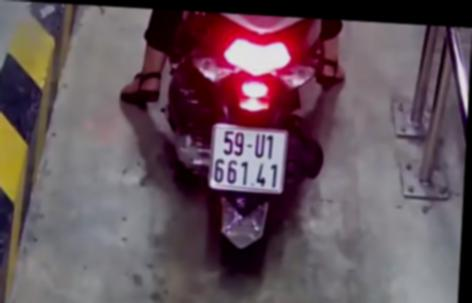License_Plate: (203, 119, 293, 200)
